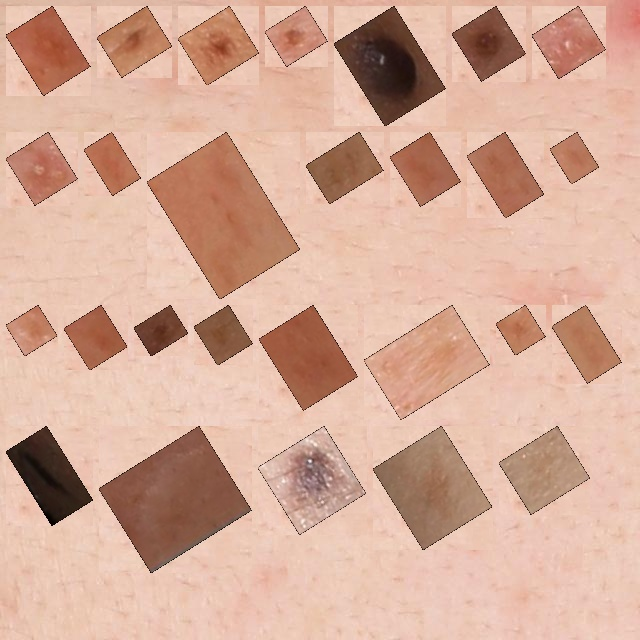hypertrophic_scar: (110, 437, 241, 561)
melasma: (158, 143, 289, 288), (384, 437, 481, 538), (375, 316, 478, 408), (270, 316, 347, 399), (510, 437, 579, 503), (17, 17, 79, 84), (478, 143, 533, 207), (317, 143, 372, 193), (563, 316, 610, 372), (401, 143, 450, 195), (75, 316, 116, 359), (95, 143, 130, 184), (205, 316, 242, 354), (145, 316, 177, 345), (17, 316, 46, 345), (561, 143, 588, 173), (507, 316, 534, 344)
nevus: (345, 17, 435, 115), (269, 437, 355, 523), (17, 437, 82, 514), (189, 17, 248, 74), (463, 17, 515, 70), (108, 17, 161, 66), (276, 17, 316, 55)
pustule: (543, 17, 595, 67), (17, 143, 67, 194)
